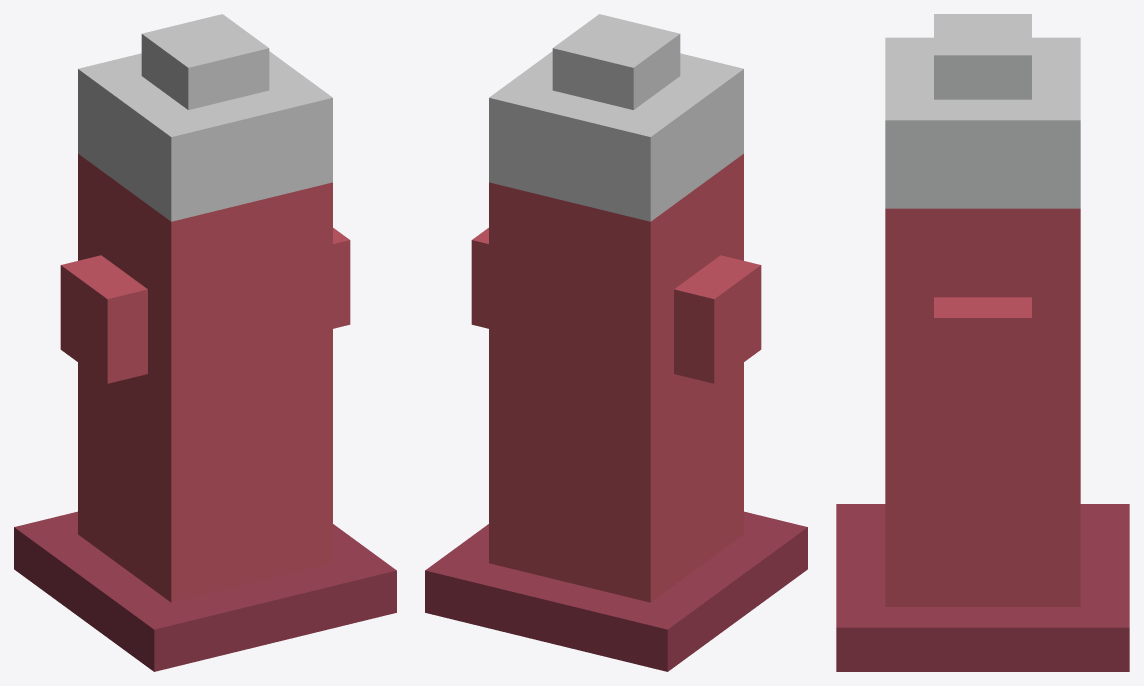
The model's file is borne_incendie.glb.
3 renders of one model, left to right at view 1: azimuth 30°, elevation 25°; view 2: azimuth 150°, elevation 25°; view 3: azimuth 270°, elevation 25°, orthographic. The views are drawn at different scales.
Visible parts, largest first — view 1: main; view 2: main; view 3: main.
Boxes of the visible parts, left/top/right/bottom form: main: left=14, top=14, right=396, bottom=671; main: left=425, top=14, right=807, bottom=671; main: left=836, top=14, right=1129, bottom=671.
Bounding box in the file's own units: 0.375 × 0.8125 × 0.375.
